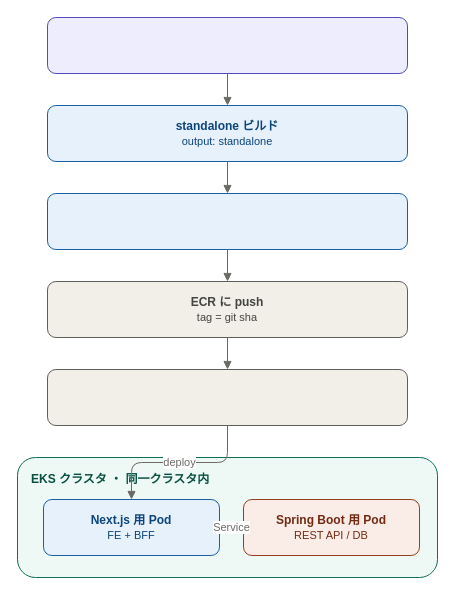
This 455x595 diagram has some shape labels left out. Here are the shapes that lost their labels. From the top down, the centre of each, then its label:
the point at 227,45: CI: 型+lint / Vitest / drift検出 / build 全部緑でないと先へ進めない
the point at 227,221: Docker イメージ化 マルチステージ / 軽量
the point at 227,397: kubectl / Helm OIDC認証で適用
